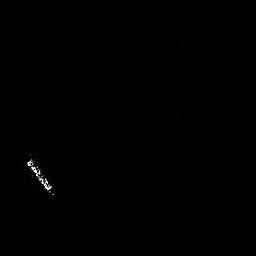ship: (22, 154, 59, 200)
